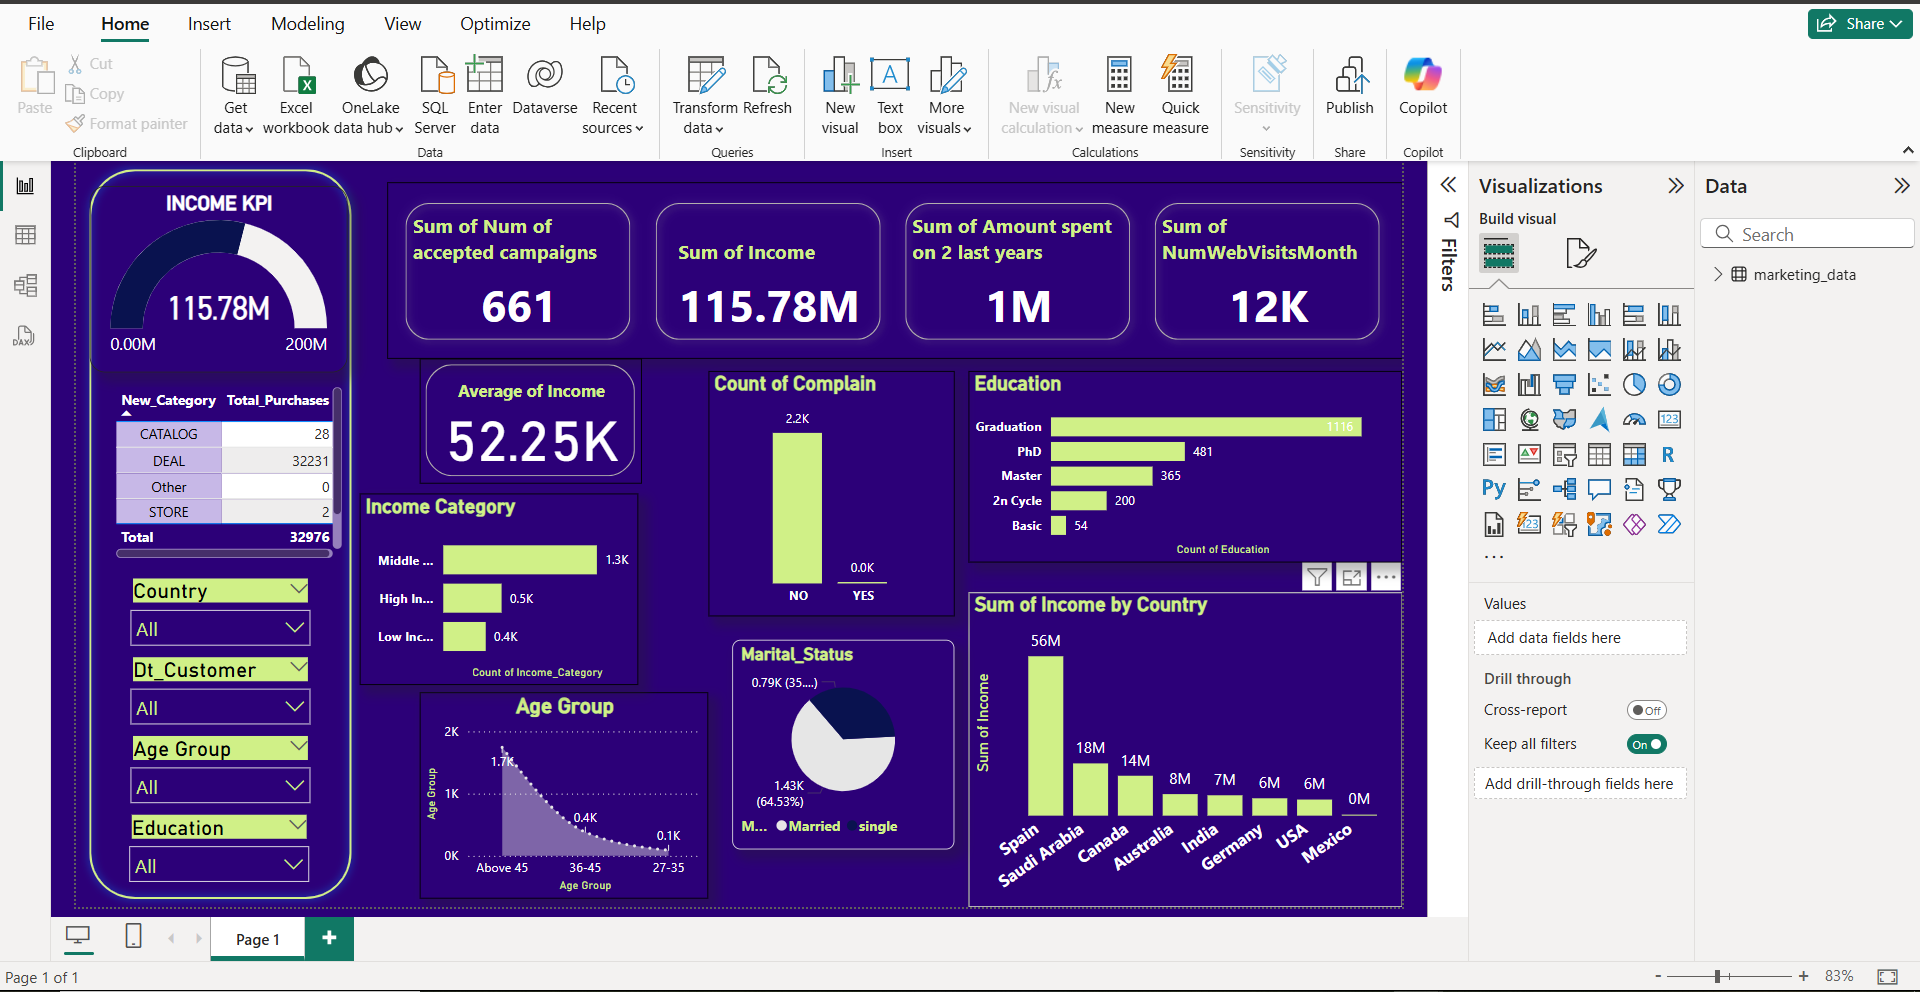

This screenshot's page, from the dashboard's own definition file:
{"tool":"powerbi","page":{"name":"Page 1","canvas":[1280,720],"ordinal":0},"visuals":[{"type":"cardVisual","fields":{"Data":["Sum(marketing_data.Num of acceoted camps)","Sum(marketing_data.Income)","Sum(marketing_data.Amount spent on 2 last years)","Sum(marketing_data.NumWebVisitsMonth)"]},"box":[300.4,20.5,979.6,170.1],"z":0},{"type":"columnChart","fields":{"Category":["marketing_data.Country"],"Y":["Sum(marketing_data.Income)"]},"box":[861.4,416.2,418.6,304],"z":1000},{"type":"shape","box":[4.8,0,269,720.2],"z":2000},{"type":"slicer","fields":{"Values":["marketing_data.Country"]},"box":[42.2,398.1,194.2,76],"z":3000},{"type":"slicer","fields":{"Values":["marketing_data.Dt_Customer"]},"box":[42.2,474.1,194.2,76],"z":4000},{"type":"slicer","fields":{"Values":["marketing_data.Education"]},"box":[41,626.1,194.2,76],"z":5000},{"type":"columnChart","title":"Count of Complain ","fields":{"Category":["marketing_data.Complain"],"Y":["CountNonNull(marketing_data.Complain)"]},"box":[610.5,202.7,237.7,236.5],"z":6000},{"type":"clusteredBarChart","title":" Education","fields":{"Category":["marketing_data.Education"],"Y":["CountNonNull(marketing_data.Education)"]},"box":[861.4,202.7,418.6,184.6],"z":7000},{"type":"gauge","title":" INCOME   KPI","fields":{"Y":["Sum(marketing_data.Income)"],"MaxValue":["marketing_data.Expected Income"]},"box":[13.3,24.1,248.5,179.8],"z":8000},{"type":"cardVisual","fields":{"Data":["marketing_data.Average of Income"]},"box":[331.8,190.6,214.7,120.6],"z":9000},{"type":"pieChart","title":"Marital_Status","fields":{"Category":["marketing_data.Marital_Status"],"Y":["CountNonNull(marketing_data.Marital_Status)"]},"box":[633.4,462.1,214.7,202.7],"z":10000},{"type":"slicer","fields":{"Values":["marketing_data.Age Group"]},"box":[42.2,550.1,194.2,76],"z":11000},{"type":"lineChart","title":" Age Group","fields":{"Category":["marketing_data.Age Group"],"Y":["CountNonNull(marketing_data.Age Group)"]},"box":[331.8,512.7,278.7,199.1],"z":12000},{"type":"tableEx","fields":{"Values":["marketing_data.New_Category","marketing_data.Total_Purchases"]},"box":[32.6,213.5,229.2,174.9],"z":13000},{"type":"clusteredBarChart","title":"Income Category","fields":{"Category":["marketing_data.Income_Category"],"Y":["CountNonNull(marketing_data.Income_Category)"]},"box":[273.9,320.9,269,184.6],"z":13001}]}

Visuals, with their boxes on the page's 1280x720 design canvas (x1, y1, x2, y2). These are canvas units, not pixel positions in the 1920x992 screenshot, which may show the page scaled, cropped or inside an application window:
cardVisual - Sum(marketing_data.Num of acceoted camps) x Sum(marketing_data.Income): crop(300, 20, 1280, 191)
columnChart - marketing_data.Country x Sum(marketing_data.Income): crop(861, 416, 1280, 720)
shape: crop(5, 0, 274, 720)
slicer - marketing_data.Country: crop(42, 398, 236, 474)
slicer - marketing_data.Dt_Customer: crop(42, 474, 236, 550)
slicer - marketing_data.Education: crop(41, 626, 235, 702)
"Count of Complain " columnChart: crop(610, 203, 848, 439)
" Education" clusteredBarChart: crop(861, 203, 1280, 387)
" INCOME   KPI" gauge: crop(13, 24, 262, 204)
cardVisual - marketing_data.Average of Income: crop(332, 191, 546, 311)
"Marital_Status" pieChart: crop(633, 462, 848, 665)
slicer - marketing_data.Age Group: crop(42, 550, 236, 626)
" Age Group" lineChart: crop(332, 513, 610, 712)
tableEx - marketing_data.New_Category x marketing_data.Total_Purchases: crop(33, 214, 262, 388)
"Income Category" clusteredBarChart: crop(274, 321, 543, 506)
